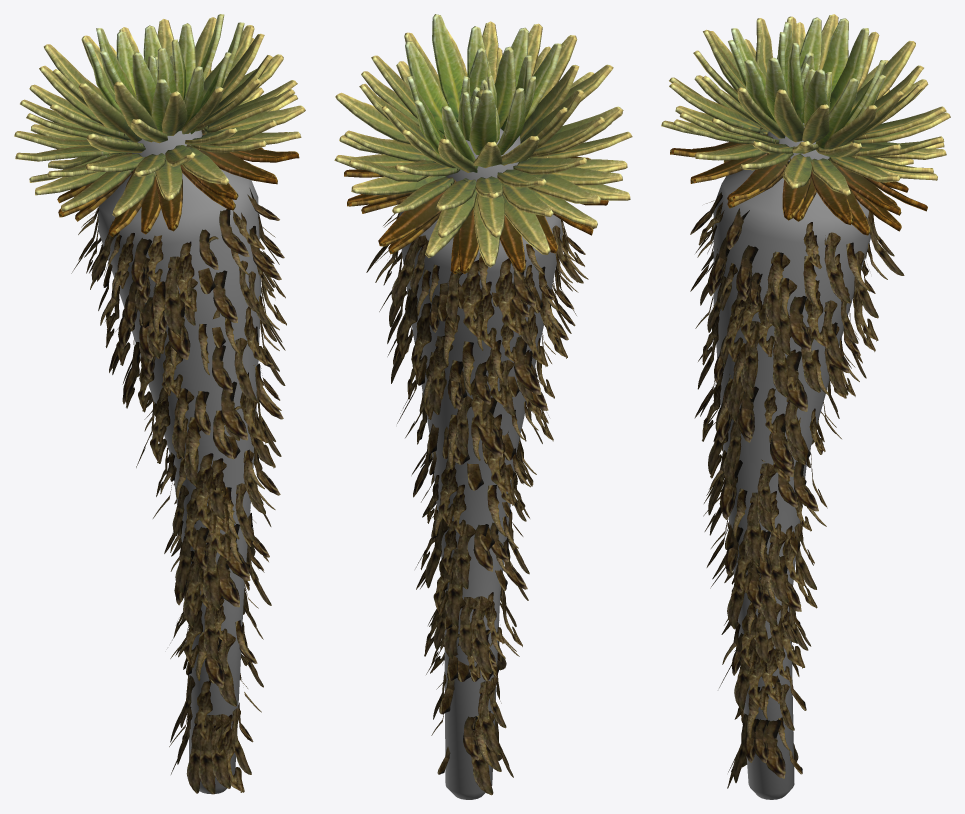
Rendered from frailejon_alto.fbx.
3 views of the same model, side by side, from view 1: azimuth 30°, elevation 25°; view 2: azimuth 150°, elevation 25°; view 3: azimuth 270°, elevation 25° (orthographic). The views are drawn at different scales.
Parts seen in each view (by area): view 1: frailejon_alto_LOD0; view 2: frailejon_alto_LOD0; view 3: frailejon_alto_LOD0.
Part boxes in pixels (<box>): frailejon_alto_LOD0: <box>14,14,305,794</box>; frailejon_alto_LOD0: <box>334,14,632,799</box>; frailejon_alto_LOD0: <box>661,14,950,799</box>.
Size of what is drawn, in the model's own units: 0.7347 by 0.7176 by 2.05.
